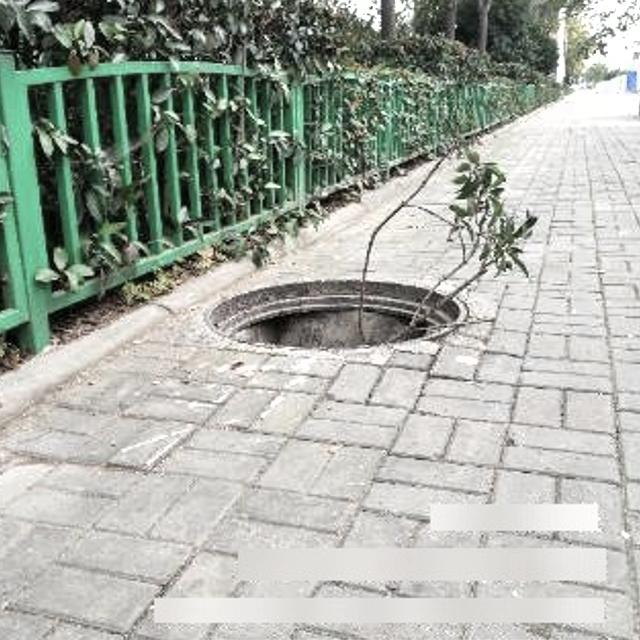lose: (202, 281, 466, 352)
